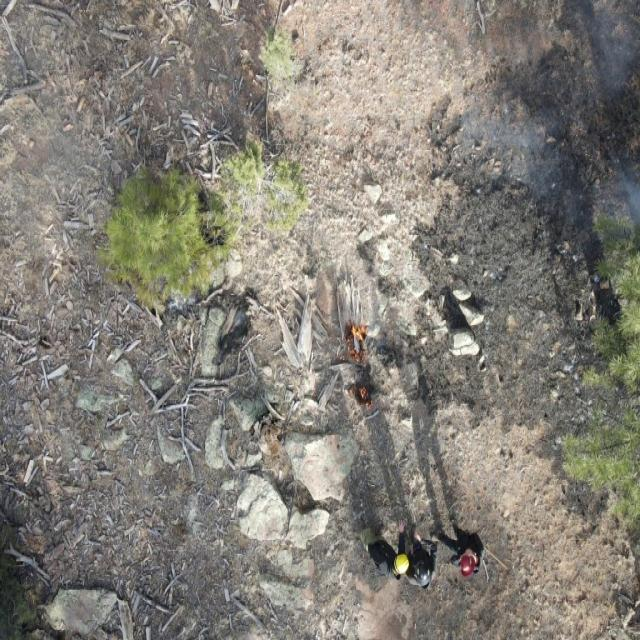fire: (341, 322, 368, 367), (348, 385, 374, 411)
smoke: (446, 1, 640, 230), (0, 0, 117, 294)
